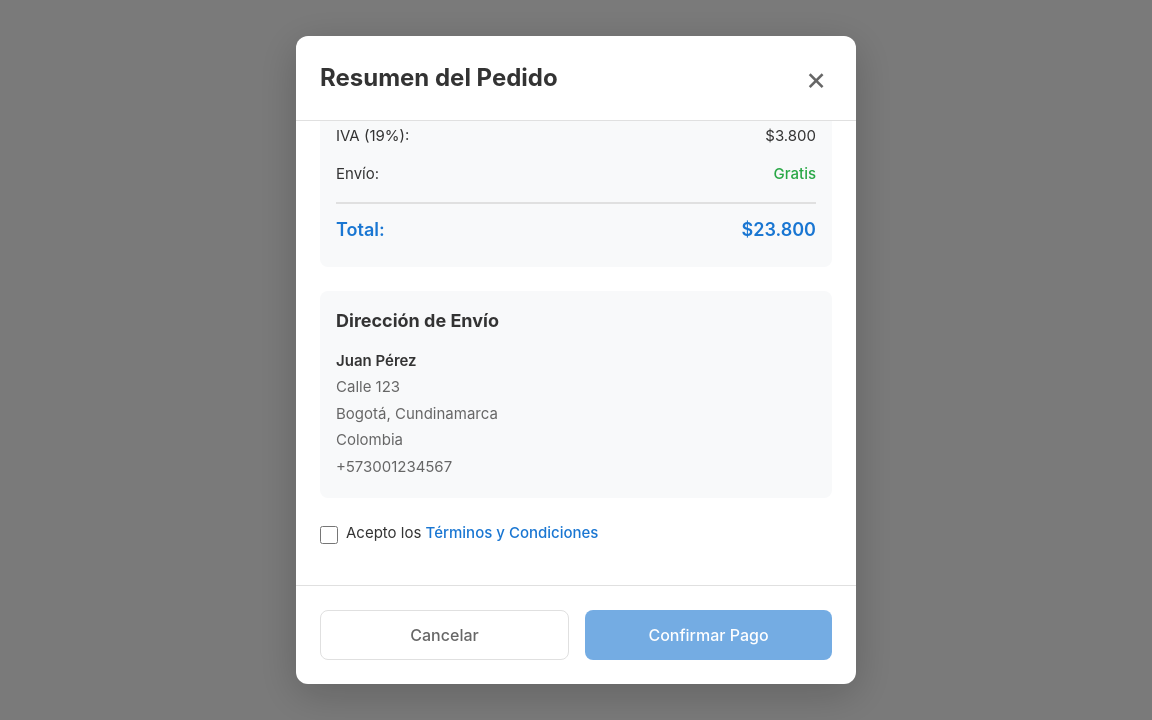
PaymentSummaryBackdrop › should enable confirm button when terms accepted and token loaded
(page scrolled)
What coordinates should you click on to do the following:
click the checkbox
I would click on:
 (329, 535)
Its box is [320,526,338,544].
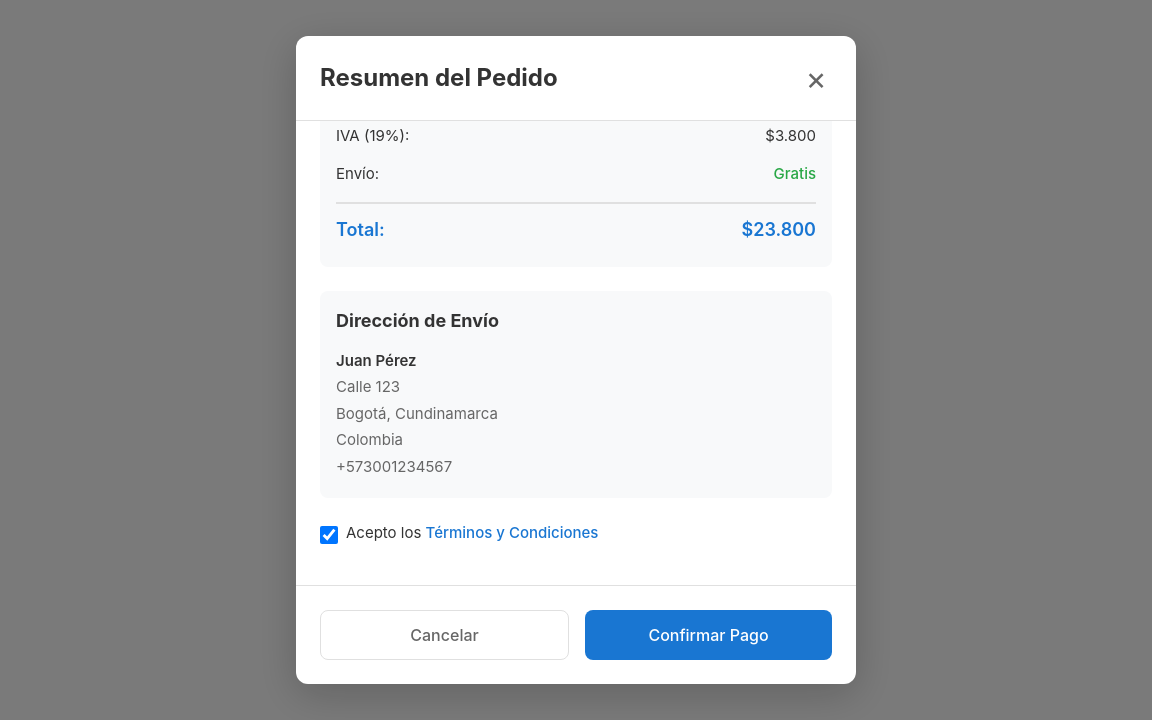
expect the button "Confirmar Pago" is enabled: met, box [585,610,832,660]
